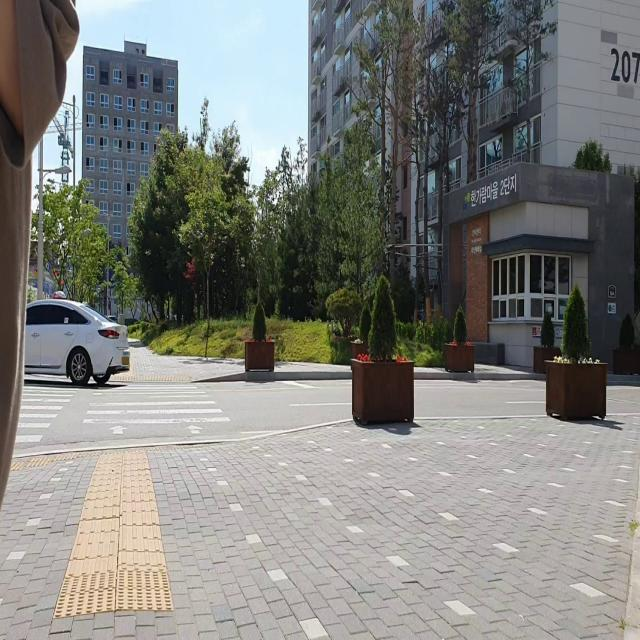횡단보도: (13, 377, 232, 445)
